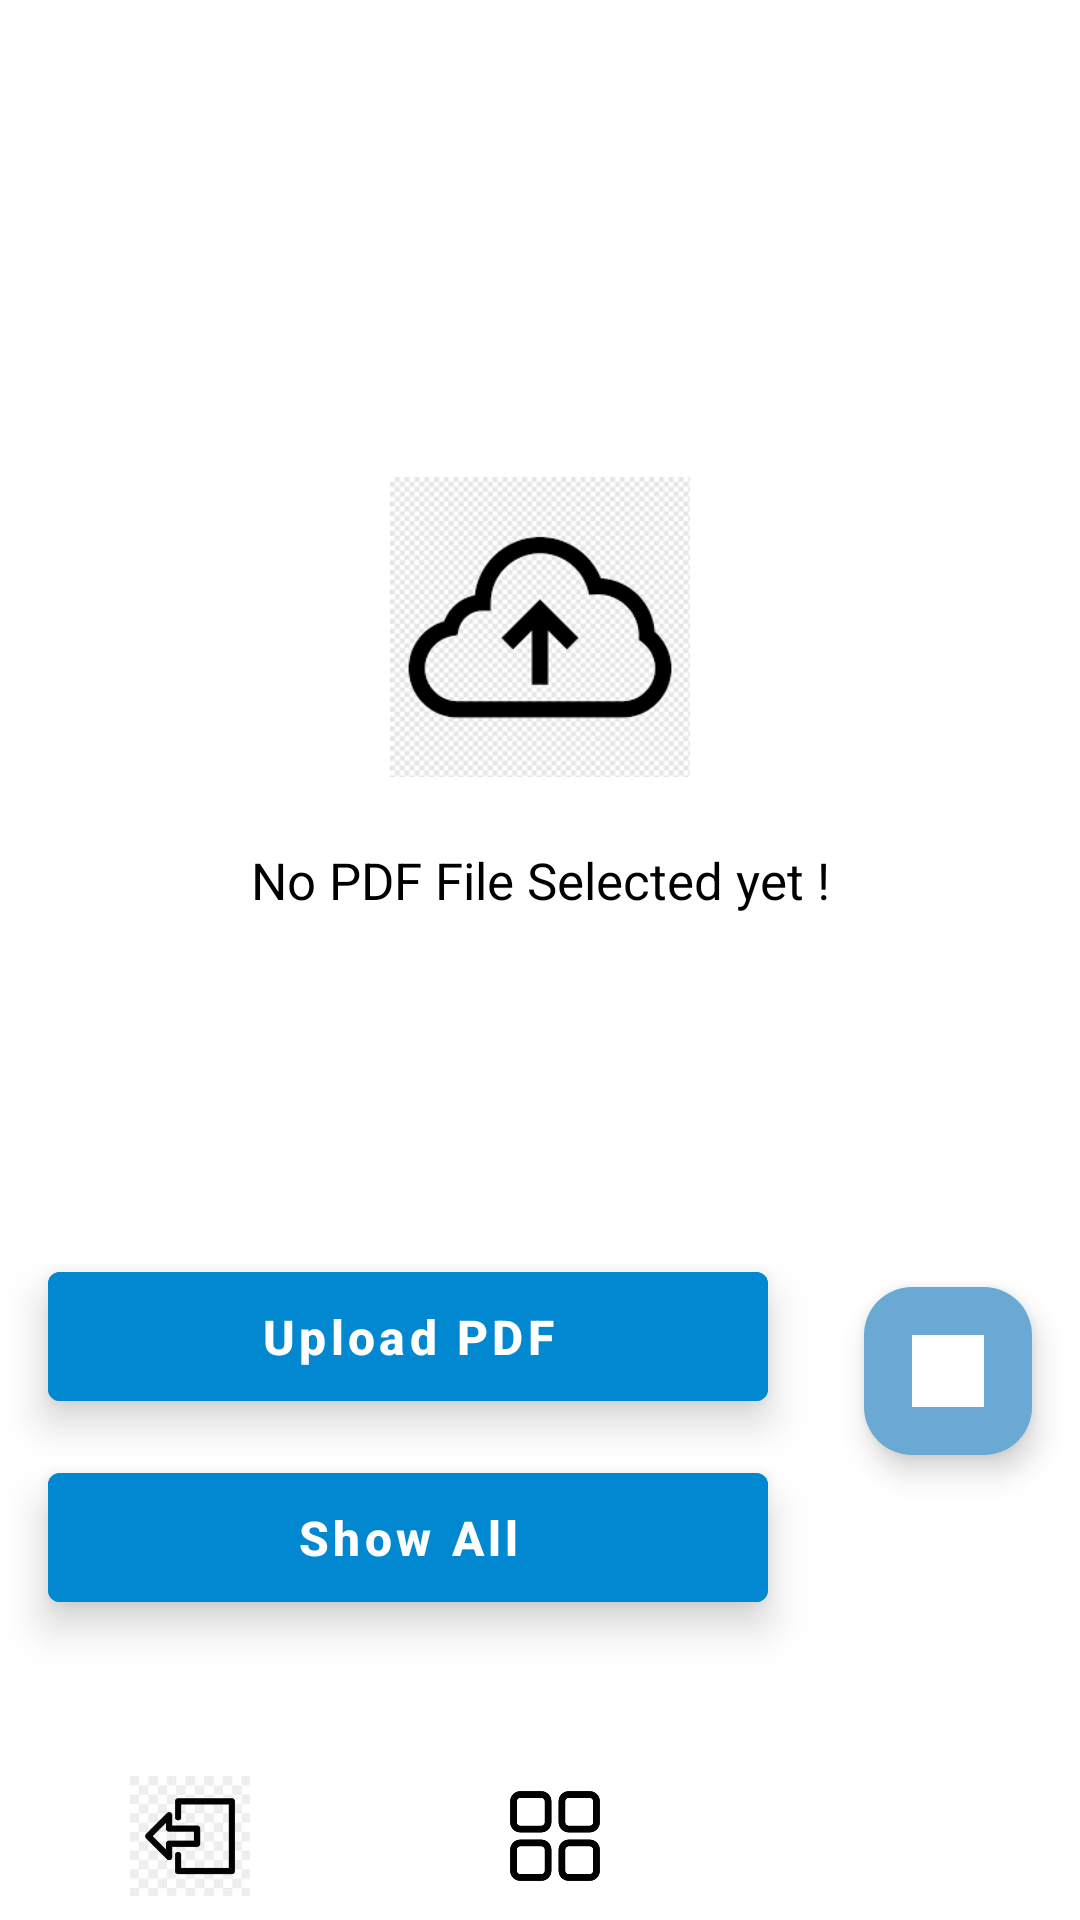

Icons on this 1080px x 1920px Android screen, each with the point to tap as point (x, y):
upload: point (540, 627)
